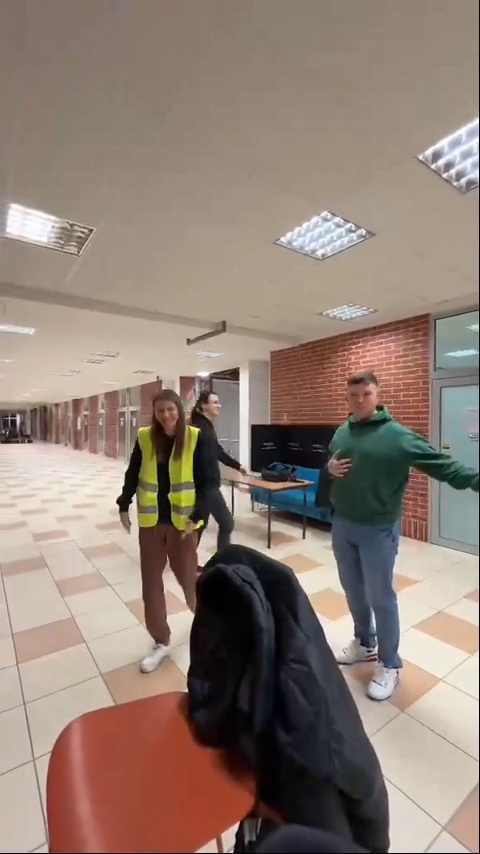no vest: (324, 364, 470, 681), (196, 385, 257, 543)
vest: (120, 383, 196, 676)
